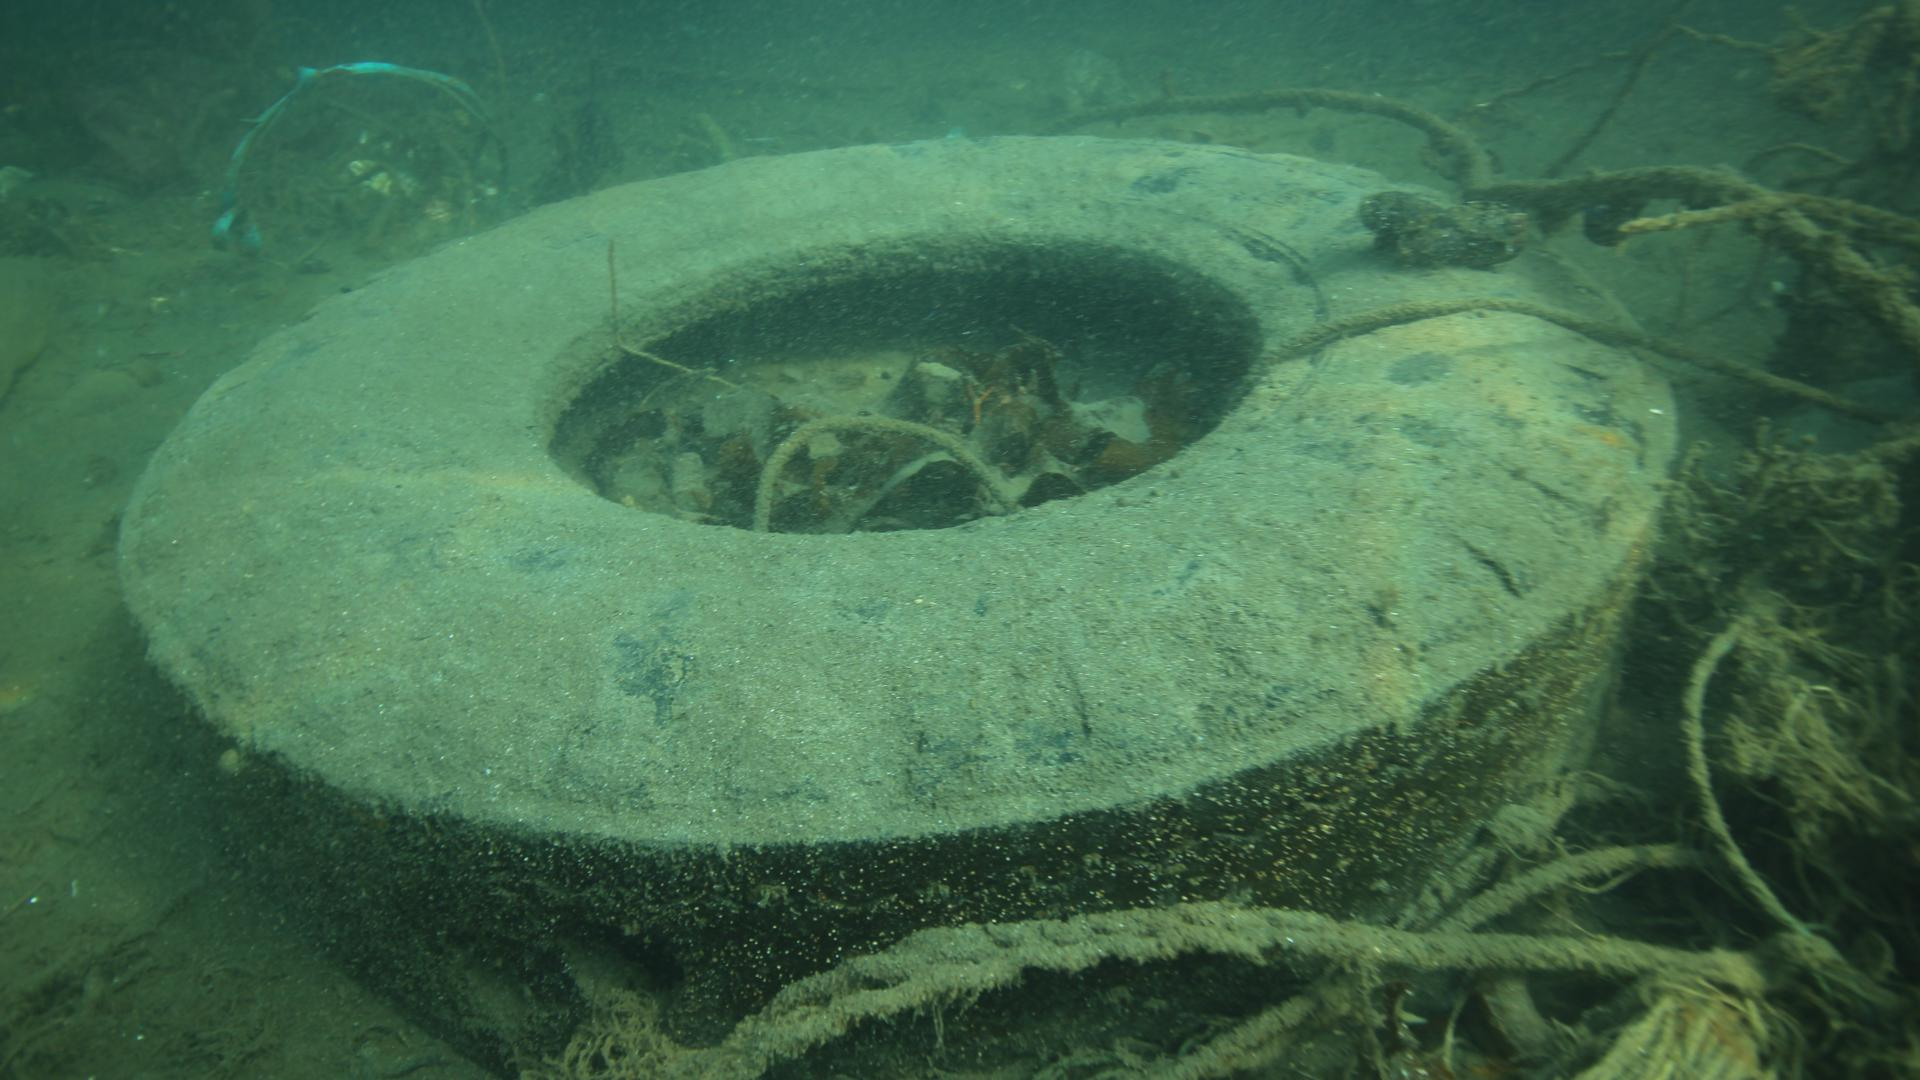bundle of ropes: (669, 634, 1706, 1080), (1035, 84, 1920, 425)
rope: (744, 410, 1036, 534)
tire: (119, 133, 1681, 1080)
